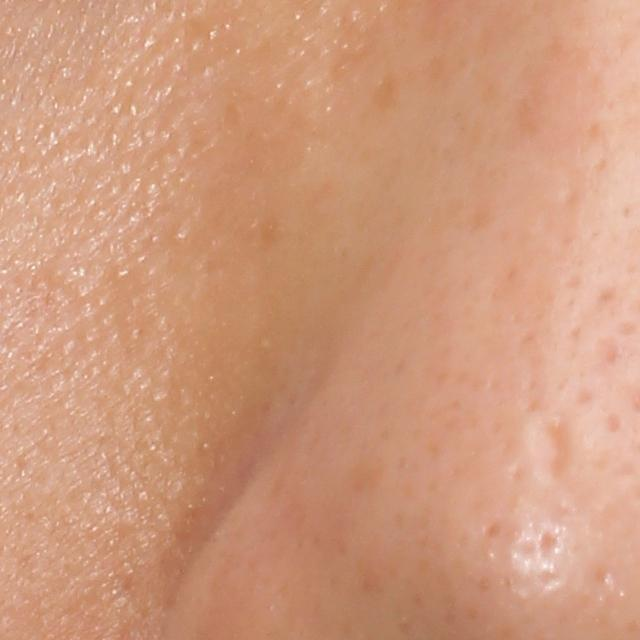atrophic_scar: (532, 415, 574, 486)
melasma: (370, 70, 403, 108)
